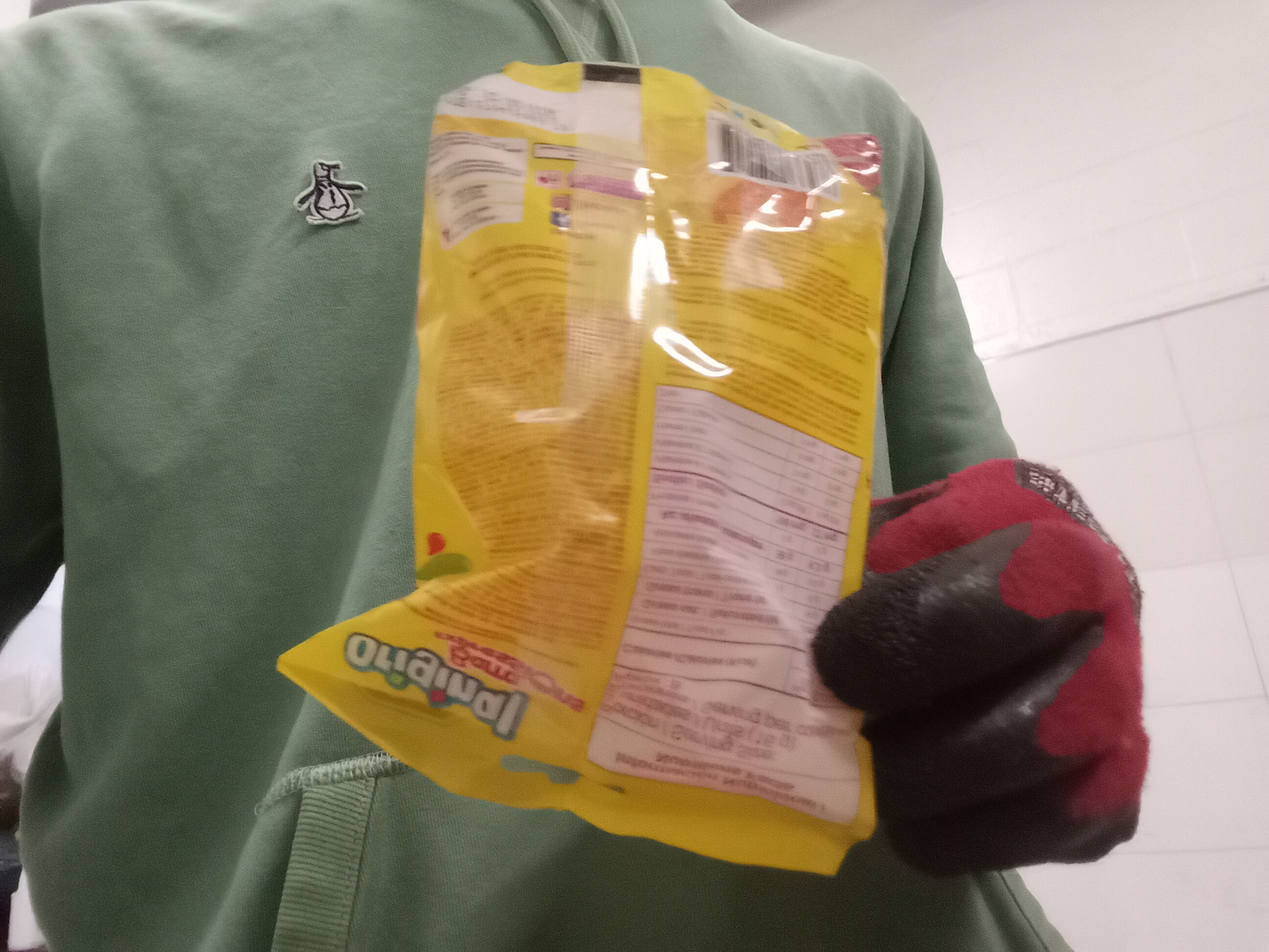Ordinario: (276, 61, 891, 876)
